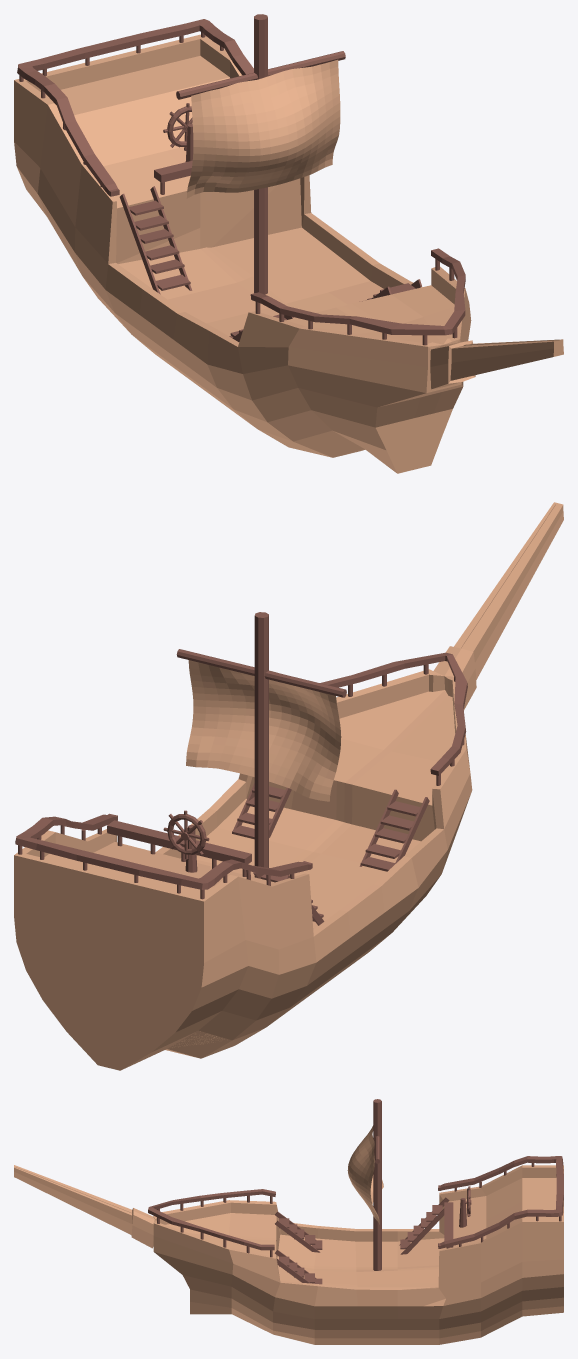
File: ShipCollision.glb
3 views of the same model, one above another, from view 1: azimuth 30°, elevation 25°; view 2: azimuth 150°, elevation 25°; view 3: azimuth 270°, elevation 25° (orthographic). The views are drawn at different scales.
Visible parts, largest first — view 1: body1; view 2: body1; view 3: body1.
Part boxes in pixels (x1=…): body1: x1=14, y1=14, x2=563, y2=473; body1: x1=14, y1=502, x2=563, y2=1070; body1: x1=14, y1=1099, x2=563, y2=1344.
Size of what is drawn, in the model's own units: 9.99 by 17.59 by 37.02.
Materials: 2 (2 with a texture image).
